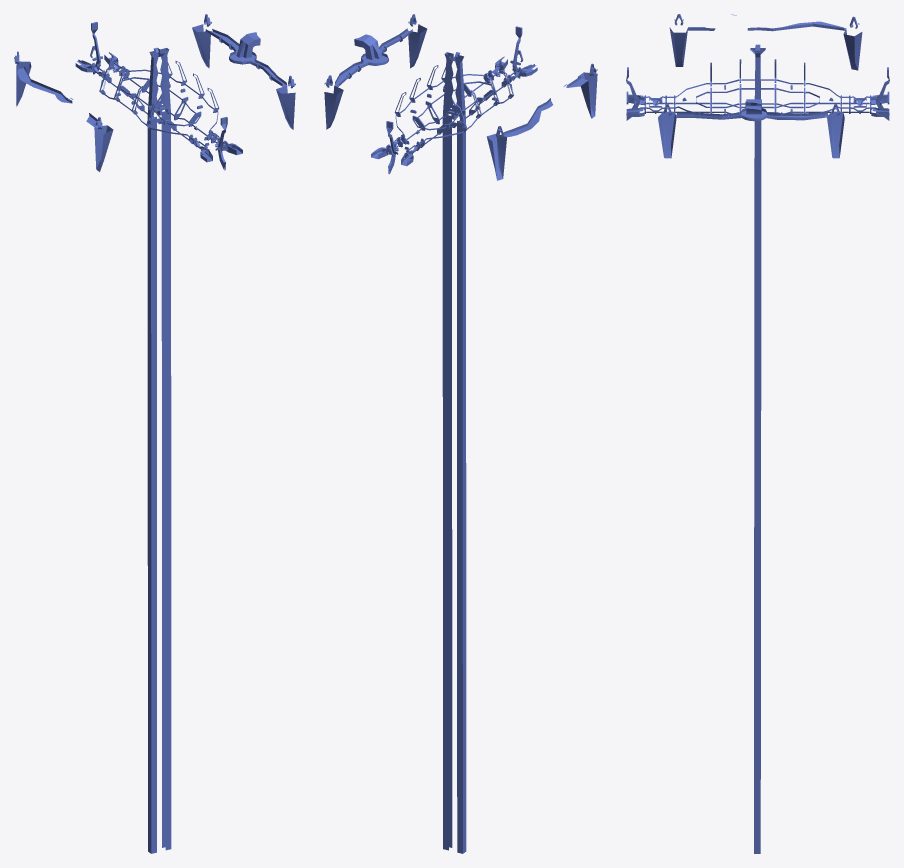
Rendered from cluster_9.fbx.
The picture shows the model from 3 angles, left to right: view 1: azimuth 30°, elevation 25°; view 2: azimuth 150°, elevation 25°; view 3: azimuth 270°, elevation 25°; orthographic projection.
Visible parts, largest first — view 1: cluster_9; view 2: cluster_9; view 3: cluster_9.
Part boxes in pixels (bbox=[...]): cluster_9: bbox=[14, 14, 295, 853]; cluster_9: bbox=[324, 14, 597, 853]; cluster_9: bbox=[626, 14, 889, 853].
Bounding box in the file's own units: 1060722 × 3912326 × 1169547.
